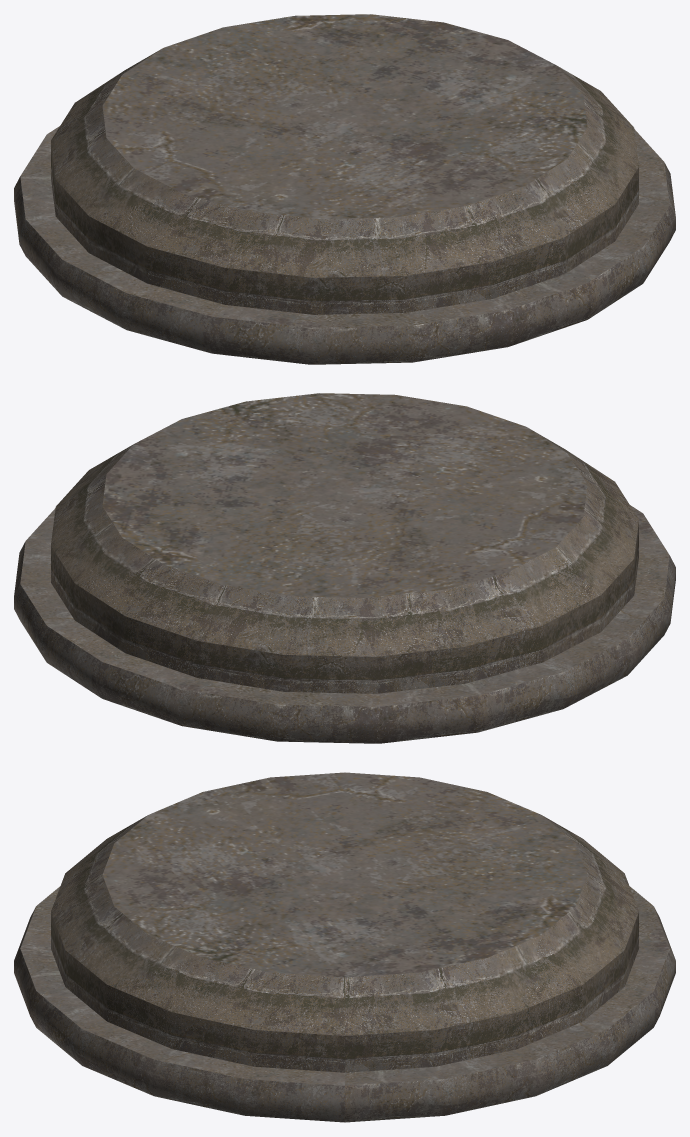
Rendered from ColumnBottom.fbx.
3 renders of one model, top to bottom at view 1: azimuth 30°, elevation 25°; view 2: azimuth 150°, elevation 25°; view 3: azimuth 270°, elevation 25°, orthographic.
Parts seen in each view (by area): view 1: Trim_Column_bottom; view 2: Trim_Column_bottom; view 3: Trim_Column_bottom.
Boxes of the visible parts, x1,y1,x2,y2 form: Trim_Column_bottom: [14, 14, 675, 364]; Trim_Column_bottom: [14, 393, 675, 743]; Trim_Column_bottom: [14, 772, 675, 1122].
Bounding box in the file's own units: 163 × 30 × 163.
